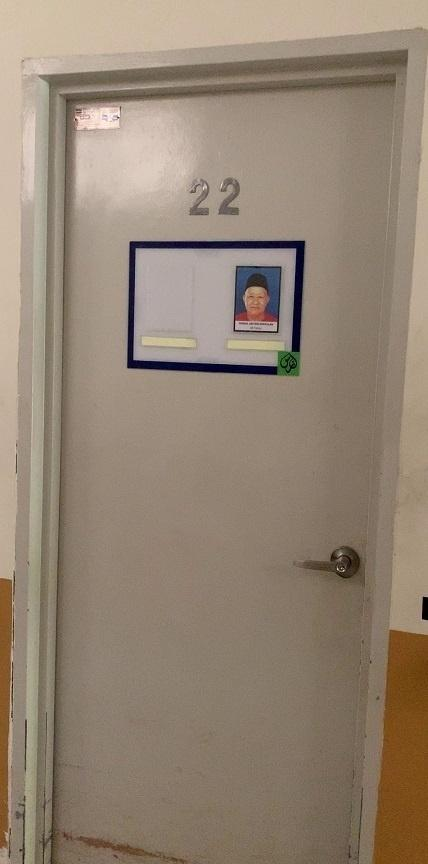door: (48, 73, 387, 864)
